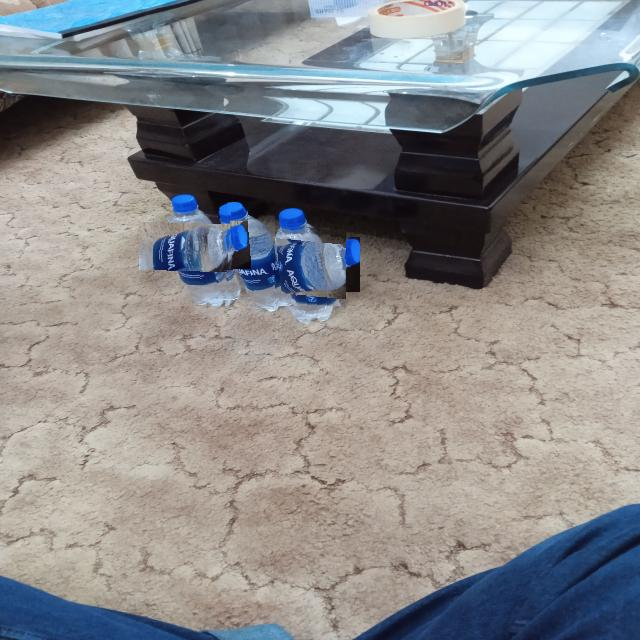Plastic: (263, 223, 346, 306), (217, 202, 275, 309), (153, 207, 231, 285)
